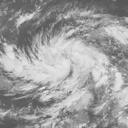cyclone: (23, 35, 103, 100)
